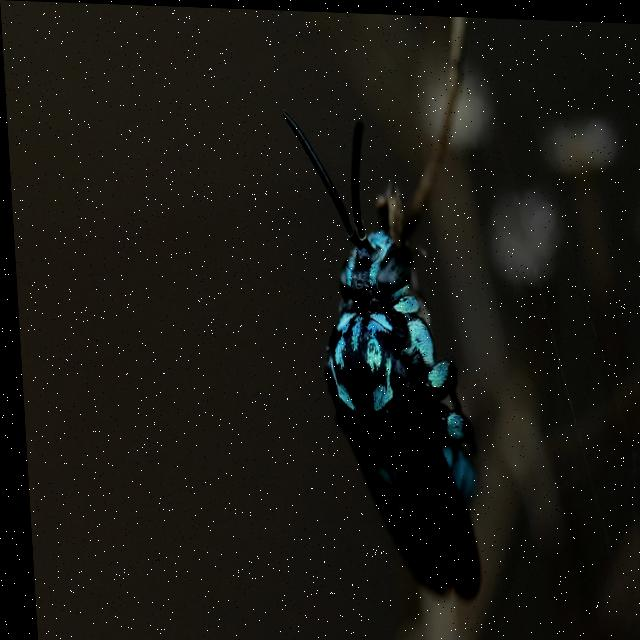Thyreus: (278, 92, 498, 617)
